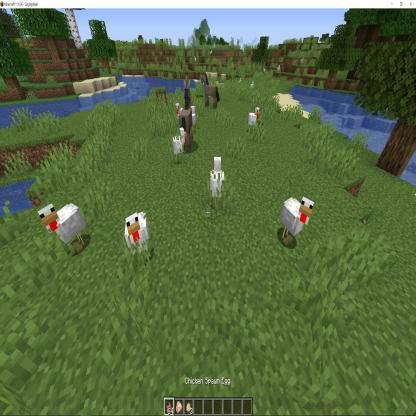minecraft-pigs: (194, 177, 221, 244)
